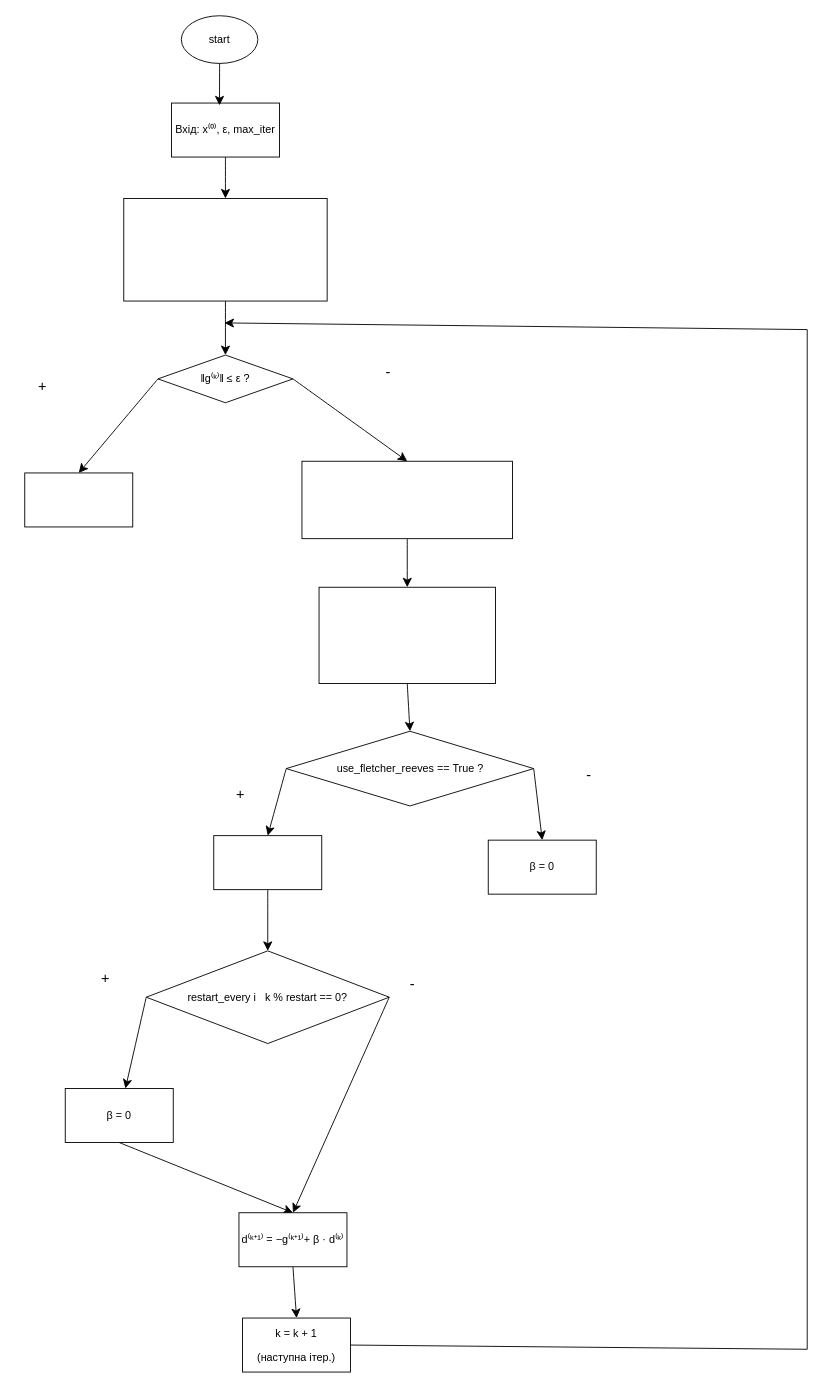
Image size: 832x1390. Some labels were removed from this diagram. The shapes that lost their labels are listed below. From the top down, each one's box as (x1, y1, x2, y2) in pixels, then its label:
(123, 198, 327, 301): k = 0 Обчислити g⁽⁰⁾ = ∇F(x⁽⁰⁾) d⁽⁰⁾ = −g⁽⁰⁾ N_F = 1, N_∇F = 1
(24, 472, 133, 527): Stop вивести x*, F*, n, N_F, N_∇F)
(301, 460, 513, 539): Точний лінійний пошук: hₖ = arg min_h F(x⁽ᵏ⁾ + h·d⁽ᵏ⁾) (Свенн + золотий переріз)
(318, 586, 495, 684): x⁽ᵏ⁺¹⁾ = x⁽ᵏ⁾ + hₖ · d⁽ᵏ⁾ Обчислити g⁽ᵏ⁺¹⁾ = ∇F(x⁽ᵏ⁺¹⁾) N_∇F += 1
(213, 835, 322, 890): β = ‖g⁽ᵏ⁺¹⁾‖² / ‖g⁽ᵏ⁾‖²
